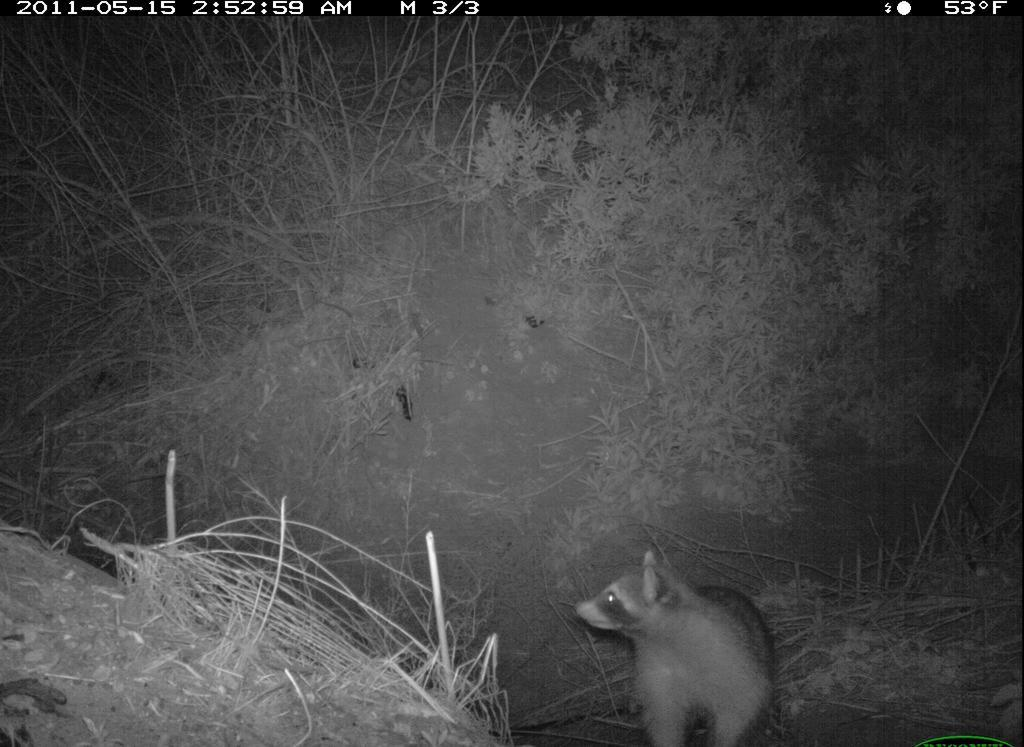raccoon: (562, 546, 802, 747)
